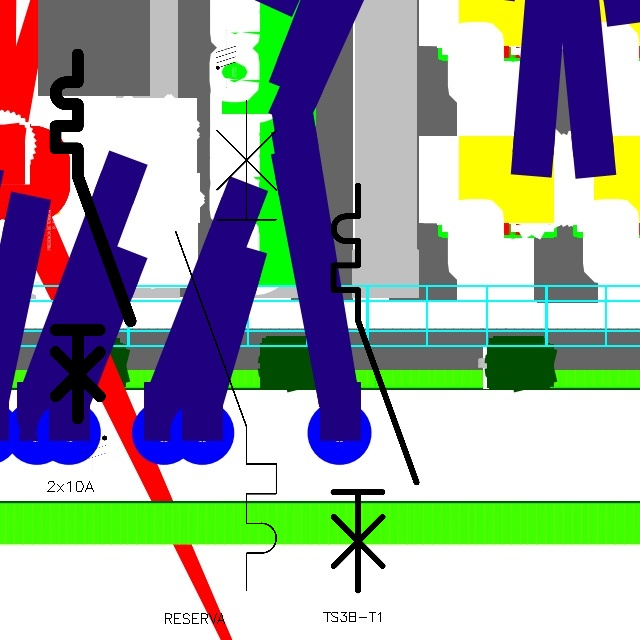interruptor_termomagnetico: (163, 88, 289, 603), (323, 175, 427, 601), (46, 45, 139, 428)
